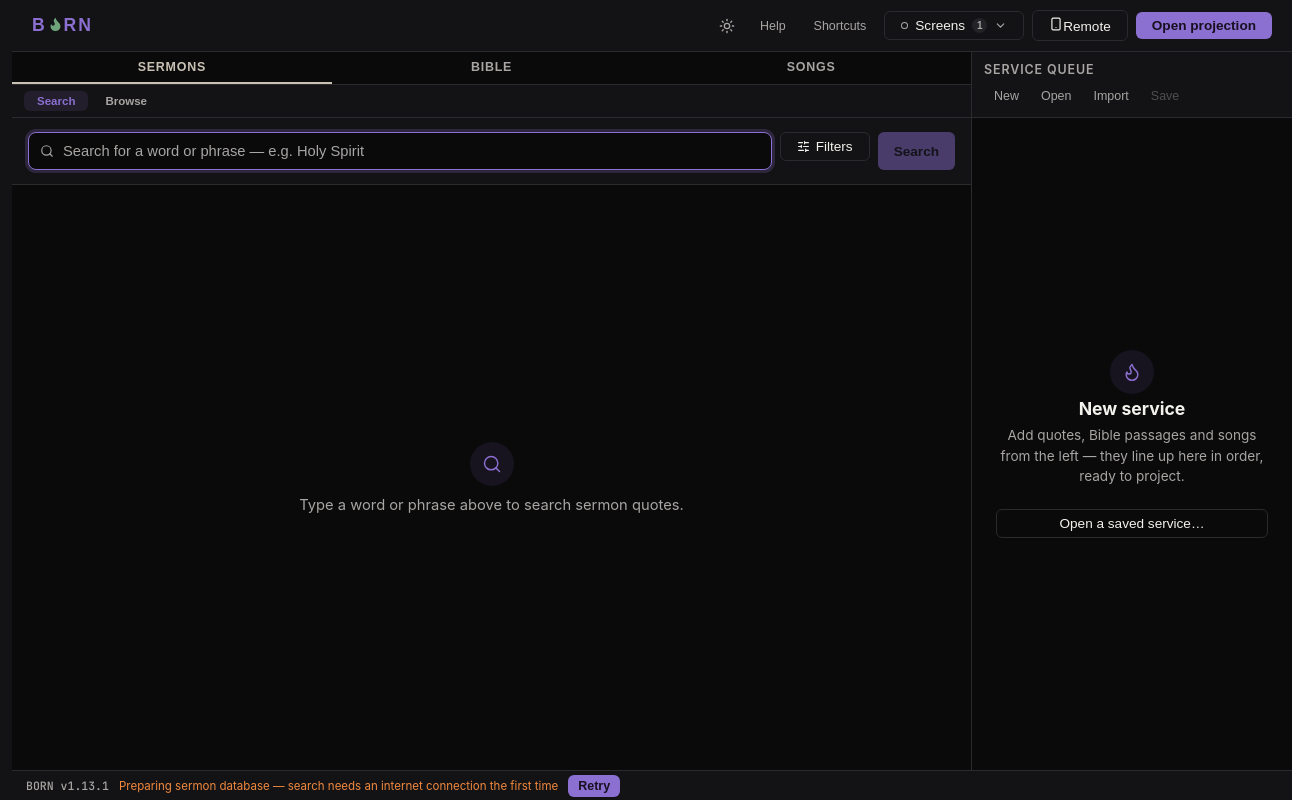
Test case: Esc that closes something on top does not also blank › Filters popover (Sermons search)
Press W
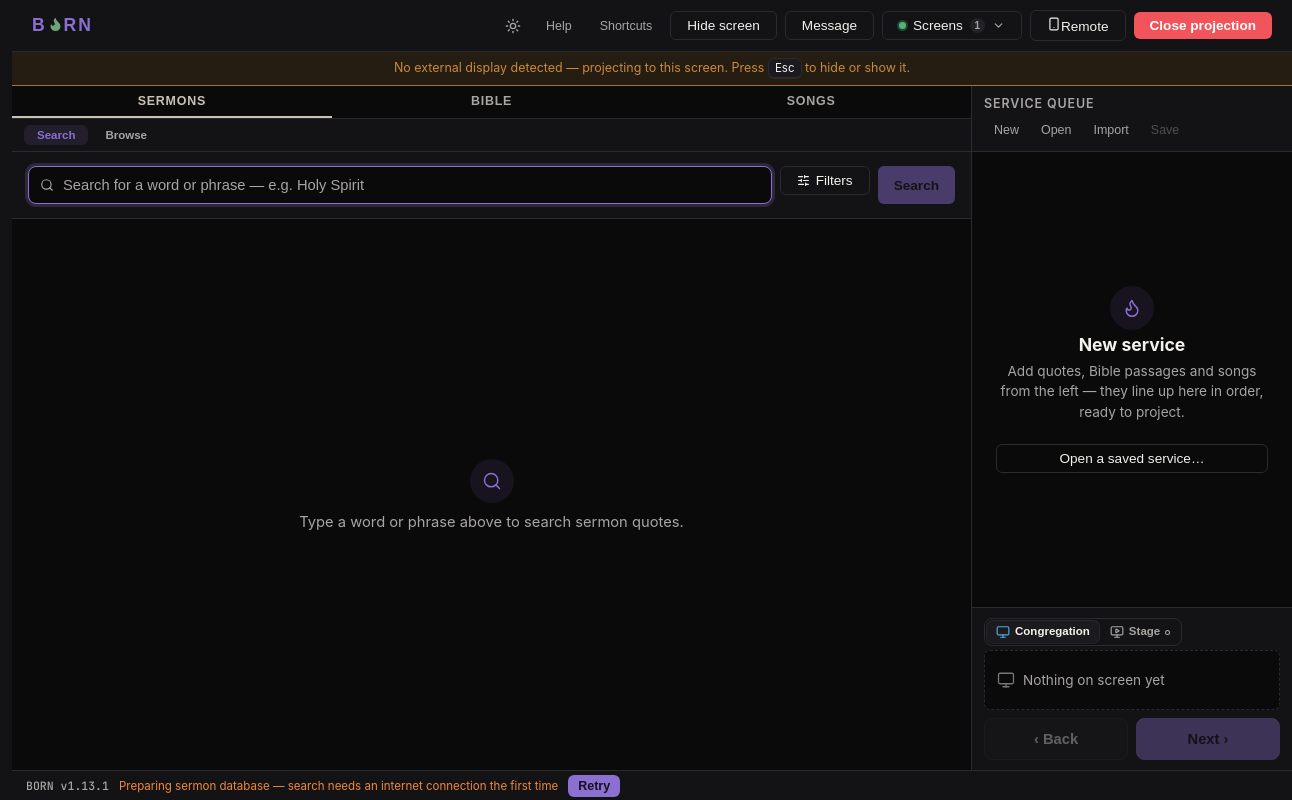
Click the button "Filters" at (825, 181), box x1=780 y1=166 x2=870 y2=195
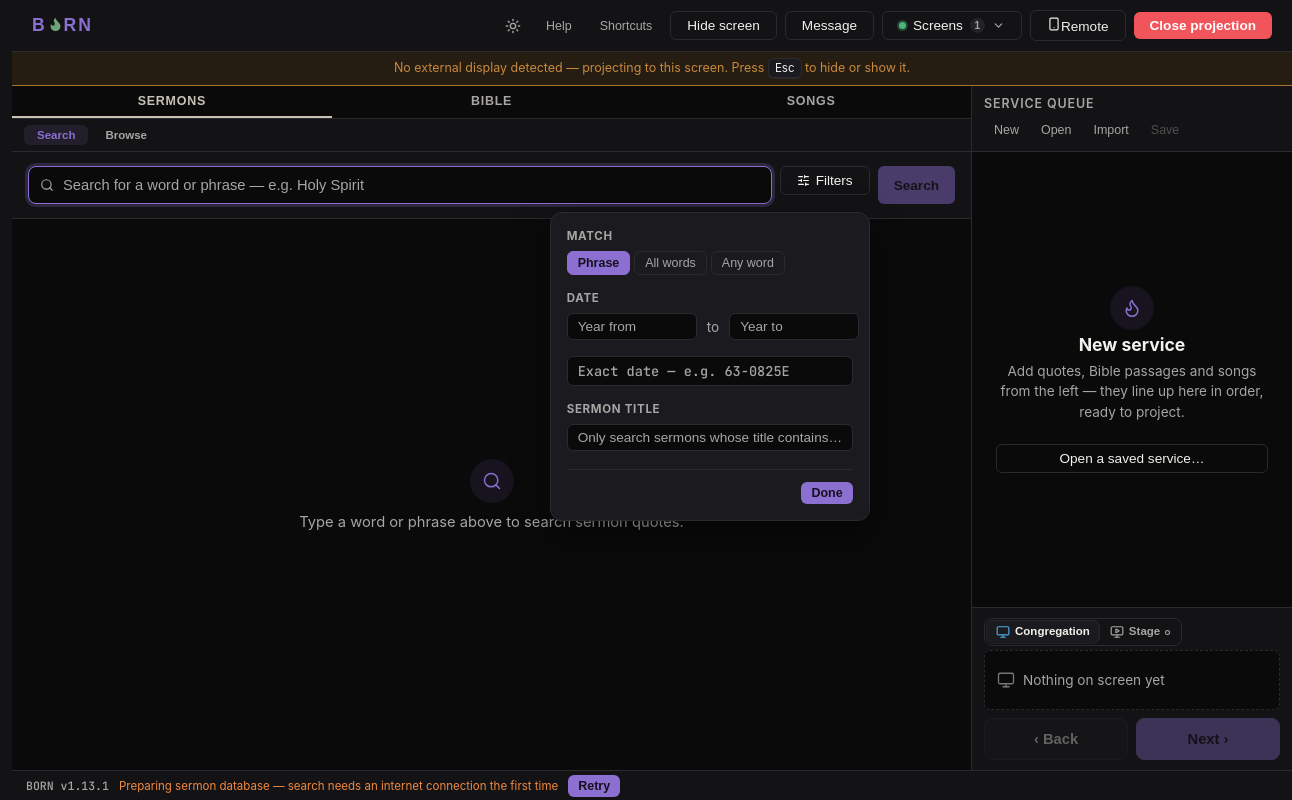
Now the element with class "filter-popover" is shown, box x1=550 y1=212 x2=870 y2=521
Press Escape
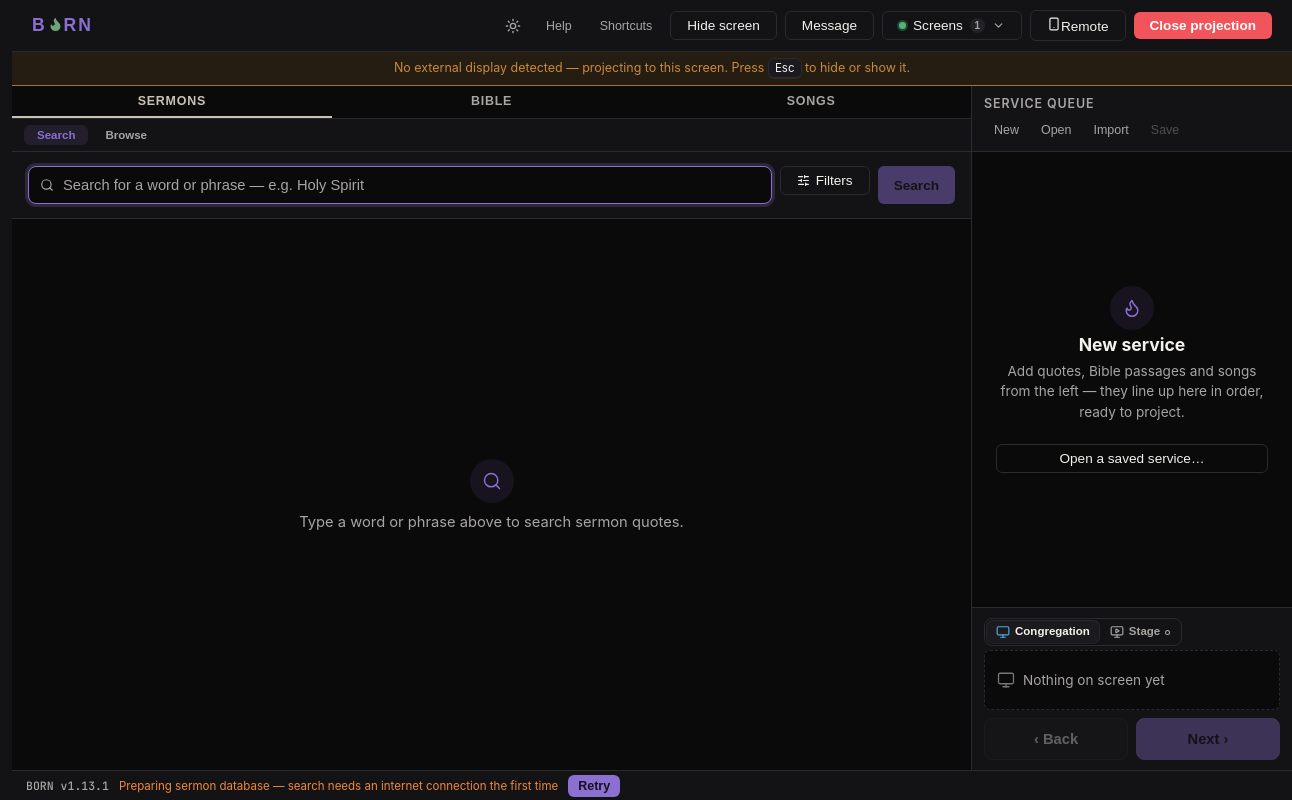
Now the element with class "filter-popover" is gone
